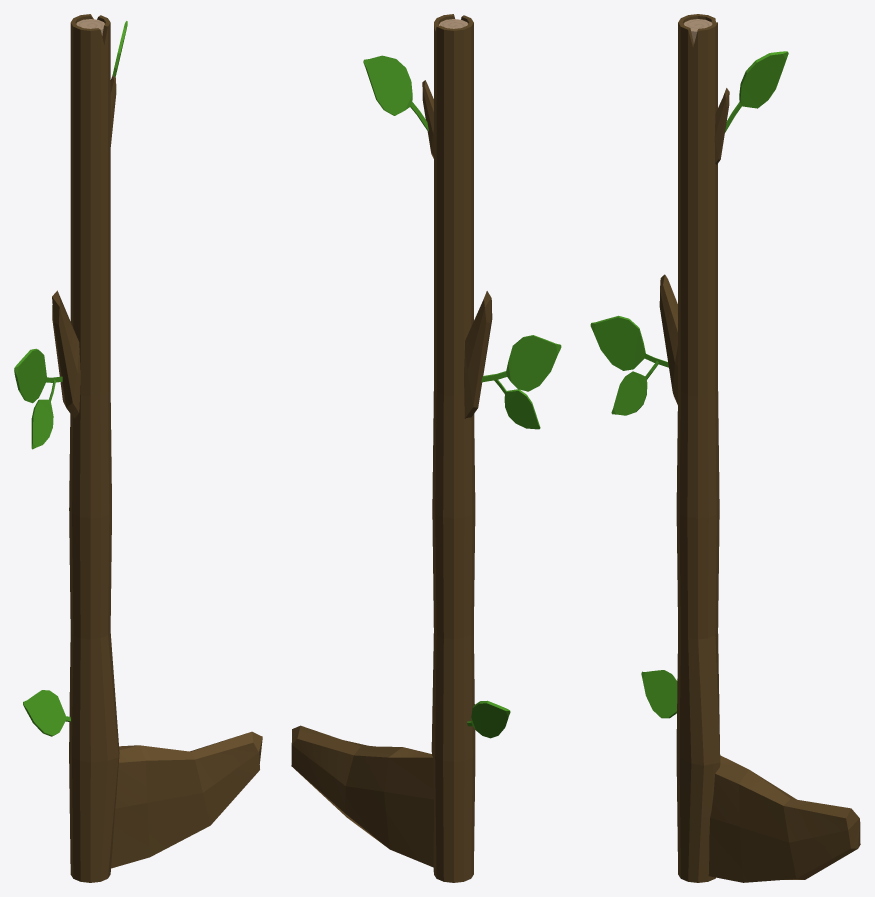
The picture shows the model from 3 angles, left to right: view 1: azimuth 30°, elevation 25°; view 2: azimuth 150°, elevation 25°; view 3: azimuth 330°, elevation 25°; orthographic projection.
Visible parts, largest first — view 1: PotiClub; view 2: PotiClub; view 3: PotiClub.
Part boxes in pixels (x1,y1,x2,y2): PotiClub: [14, 14, 262, 882]; PotiClub: [291, 14, 561, 882]; PotiClub: [590, 14, 860, 882].
Size of the model in its own units: 0.5058 by 1.59 by 0.1458.
2 materials, 1 textured.
